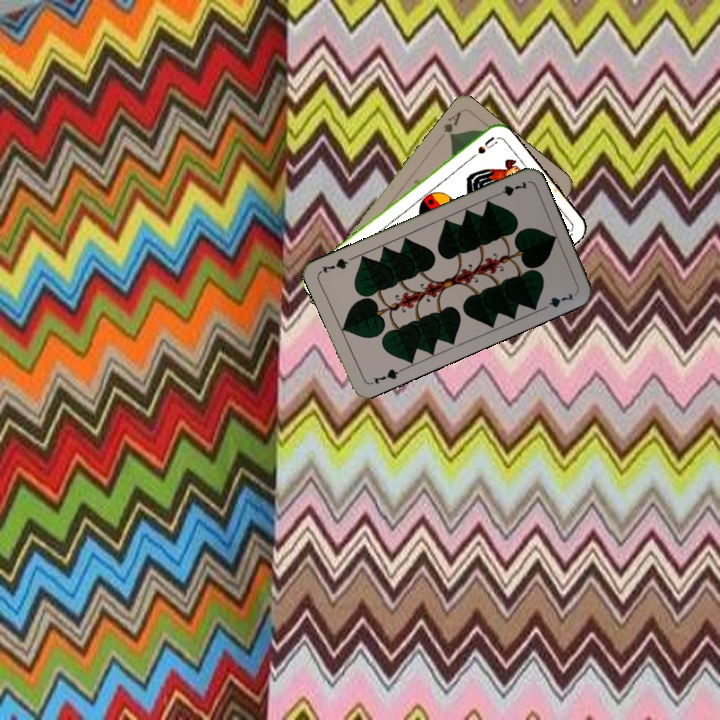G7: (490, 177, 530, 199), (366, 365, 405, 387)
GA: (439, 108, 464, 141)
SU: (463, 133, 499, 164)
